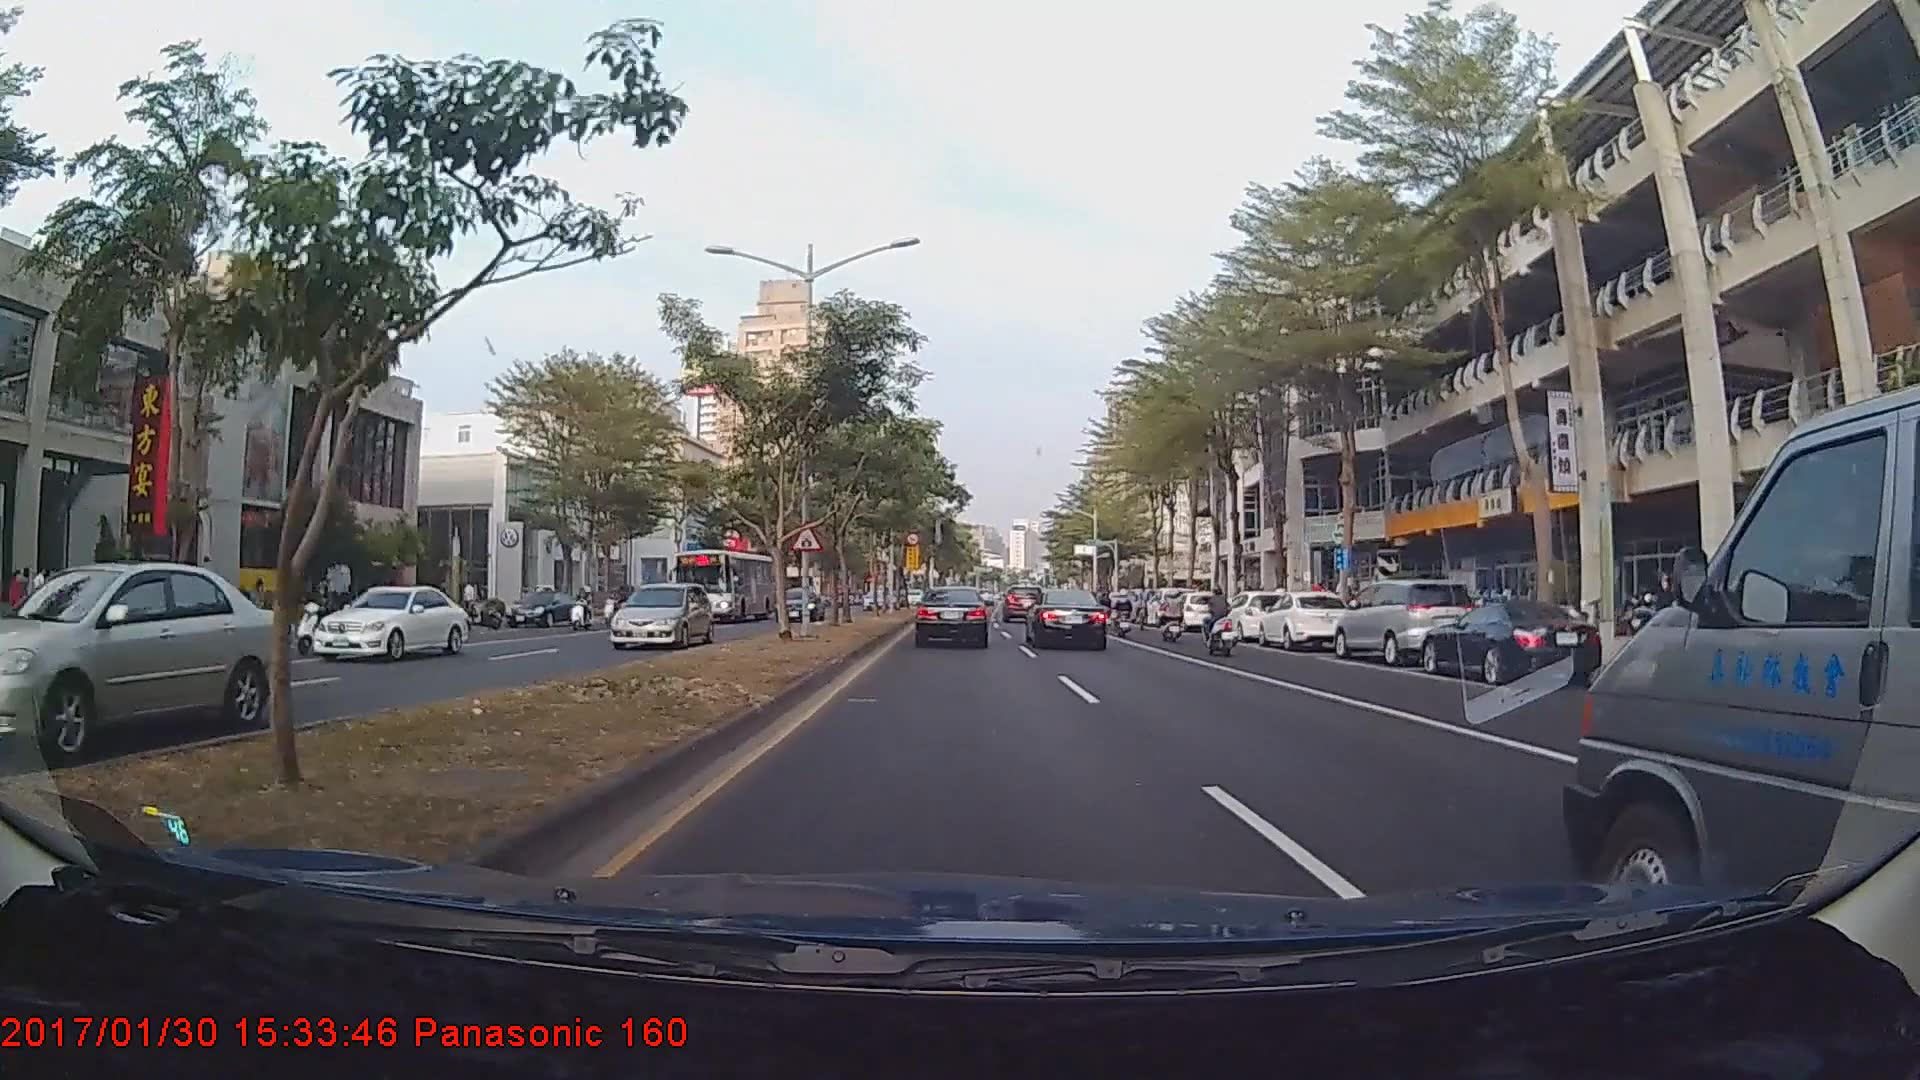rider: (1196, 582, 1246, 659), (291, 578, 342, 654), (1149, 590, 1200, 646), (568, 583, 599, 632), (1109, 586, 1135, 639)
vehicle: (1579, 417, 1913, 887), (1417, 599, 1604, 685), (1335, 571, 1484, 664), (313, 584, 469, 662), (675, 547, 775, 623), (607, 580, 712, 650), (1256, 587, 1355, 646), (1027, 587, 1109, 650), (916, 585, 990, 647), (1216, 587, 1294, 640), (1167, 589, 1223, 628), (773, 587, 820, 621), (1004, 578, 1045, 616)
